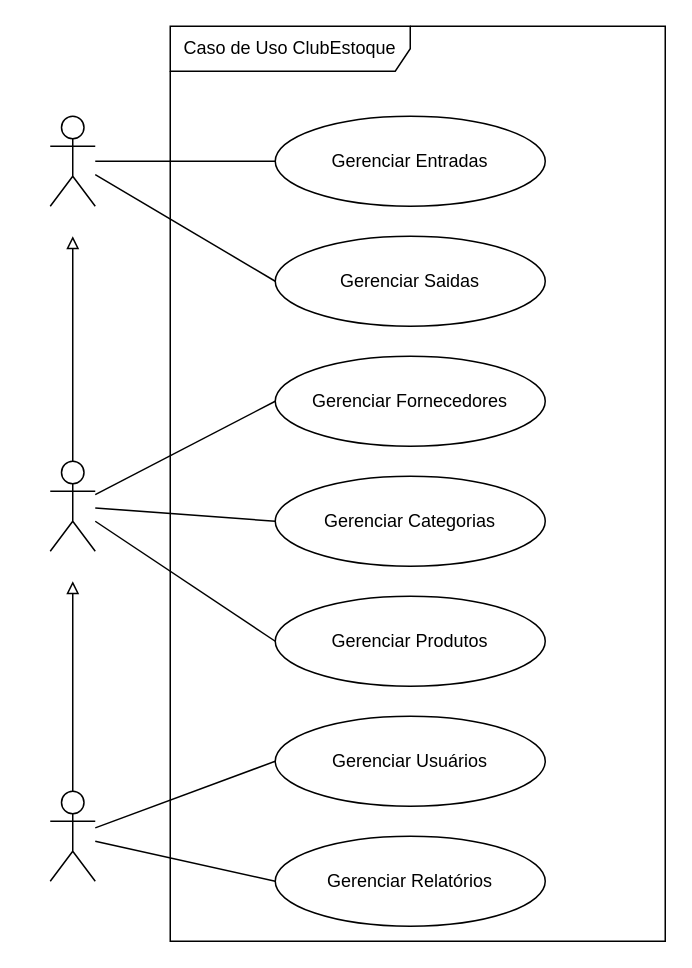
Some shapes in this 692 by 968 pixel diagram are drawn without their labels. Here are the shapes that lost their labels. From the top down, the centre of each, then its label:
the point at 72,160: Funcionário
the point at 72,505: Gerente
the point at 72,835: Presidente
